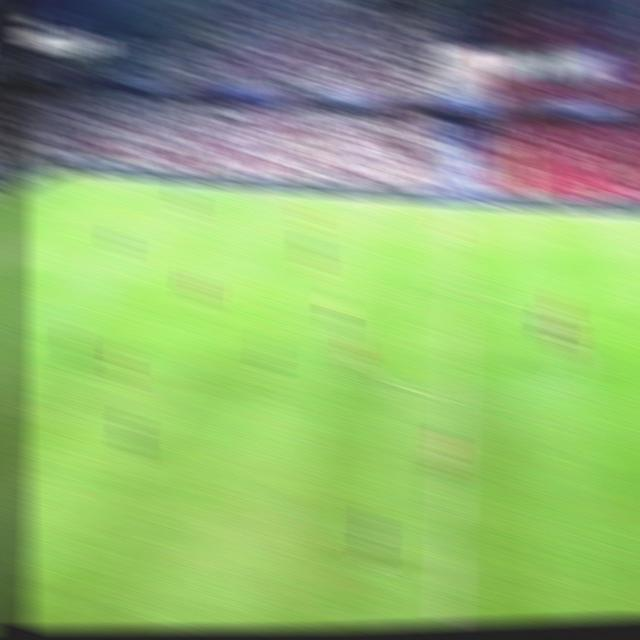bigarea_top_inner: (126, 210, 154, 230)
corner: (49, 168, 78, 184)
halfcircle_bottom: (437, 380, 474, 414)
halfcircle_top: (440, 276, 478, 308)
midline_top_intersection: (448, 197, 478, 221)
top_arc_area_intersection: (74, 253, 101, 273)
